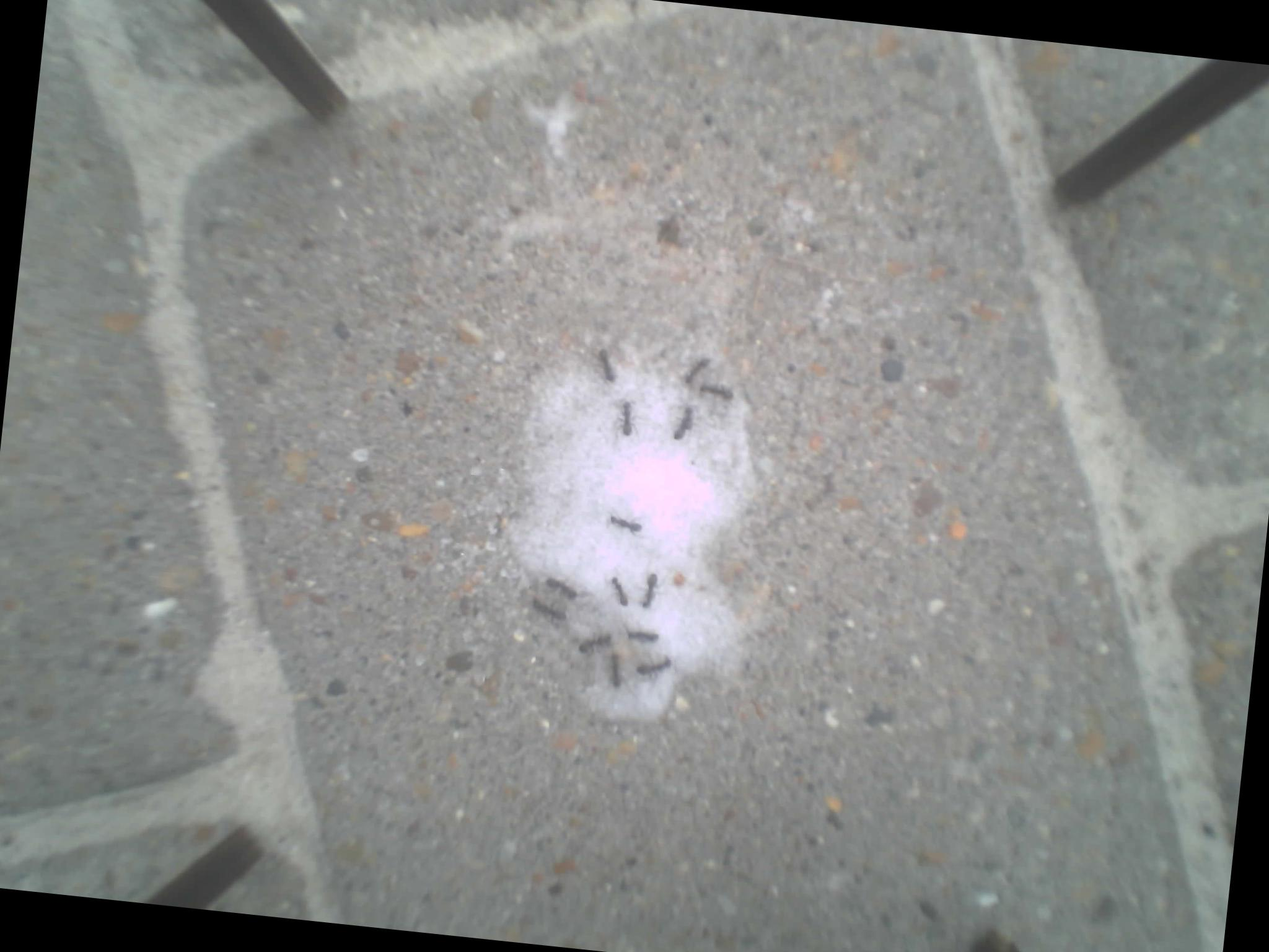Ant: (530, 597, 568, 622), (577, 631, 612, 656), (635, 654, 671, 678), (543, 577, 579, 600), (672, 404, 694, 441), (683, 356, 709, 386), (595, 348, 617, 381), (608, 576, 630, 606), (639, 572, 657, 608), (698, 383, 734, 400), (608, 515, 642, 533), (607, 651, 623, 688), (619, 400, 635, 436), (626, 628, 659, 643)
